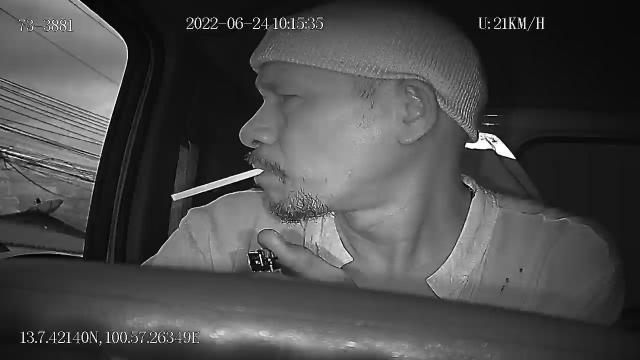Smoking: (169, 165, 267, 204)
